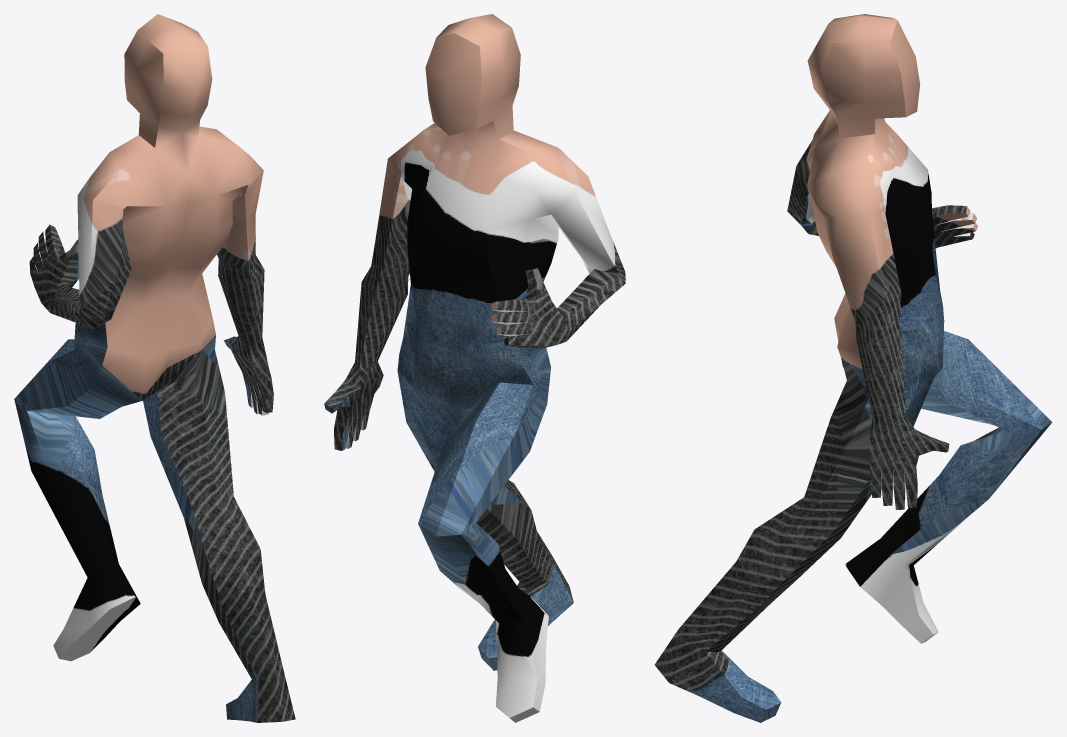
File: human24.obj
3 views of the same model, side by side, from view 1: azimuth 30°, elevation 25°; view 2: azimuth 150°, elevation 25°; view 3: azimuth 270°, elevation 25° (orthographic). The views are drawn at different scales.
Parts seen in each view (by area): view 1: HumanMale; view 2: HumanMale; view 3: HumanMale.
Boxes of the visible parts, x1,y1,x2,y2 form: HumanMale: (14,14,295,722); HumanMale: (324,14,625,722); HumanMale: (654,14,1052,722).
Size of the model in its own units: 0.6568 by 1.8 by 0.9445.
1 material, 1 textured.
